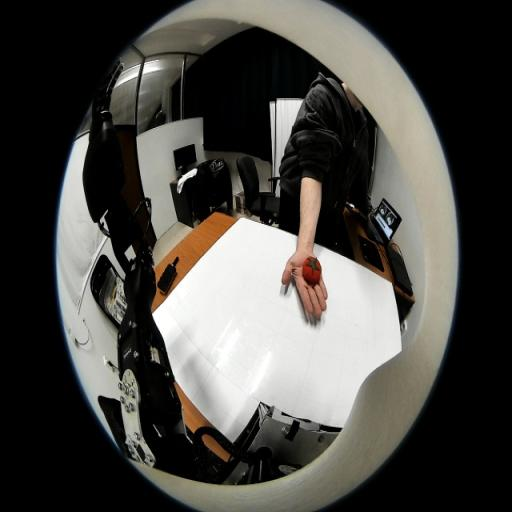Tomato: (302, 256, 322, 284)
